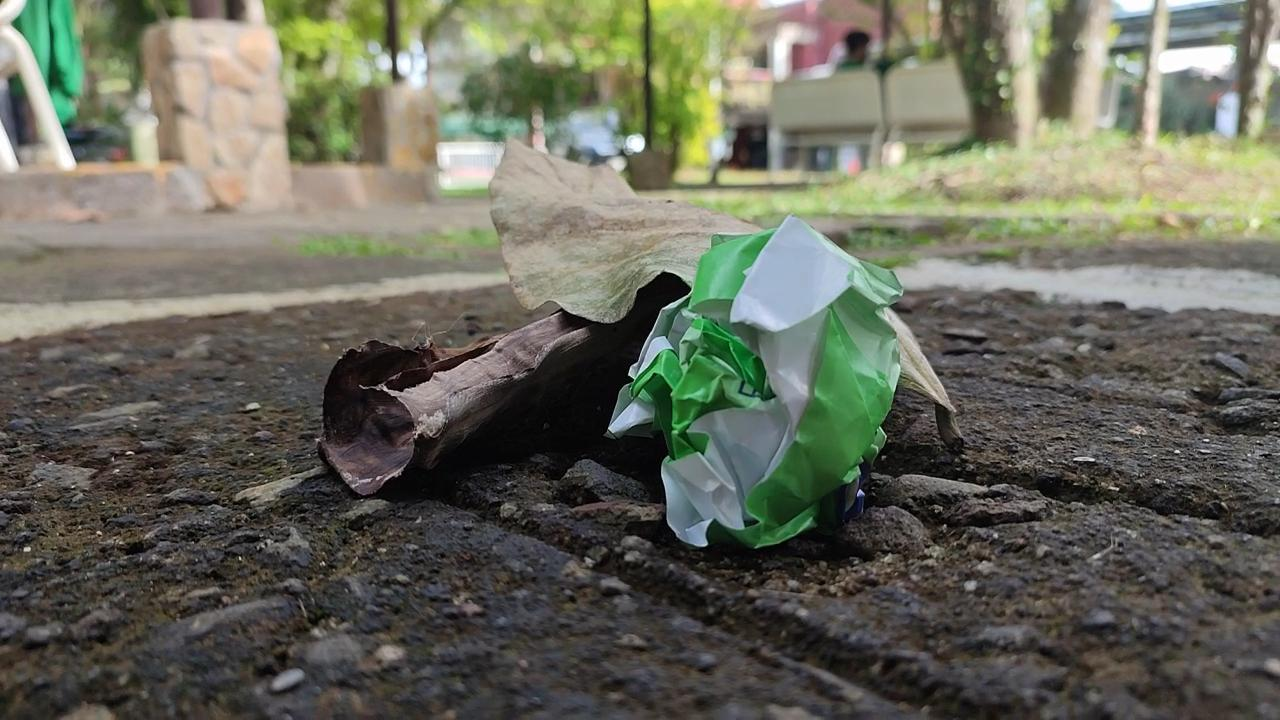Paper: (592, 198, 920, 567)
